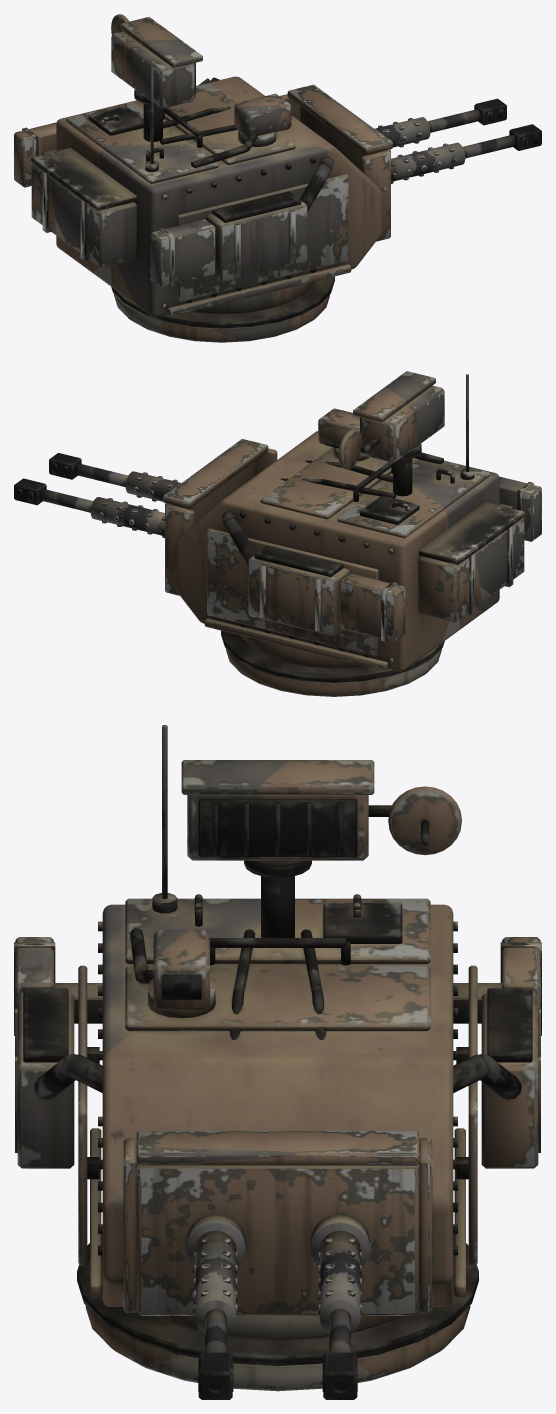
Rendered from turret_grach_evo_rock.glb.
The picture shows the model from 3 angles, top to bottom: view 1: azimuth 30°, elevation 25°; view 2: azimuth 150°, elevation 25°; view 3: azimuth 270°, elevation 25°; orthographic projection. The views are drawn at different scales.
Visible parts, largest first — view 1: turret_light_evo, guns, pods; view 2: turret_light_evo, guns, pods; view 3: turret_light_evo, guns, pods.
Boxes of the visible parts, <box> form: turret_light_evo: <box>31,14,381,342</box>; guns: <box>280,84,541,241</box>; pods: <box>14,122,215,287</box>; turret_light_evo: <box>174,371,524,696</box>; guns: <box>14,439,277,595</box>; pods: <box>340,476,541,641</box>; turret_light_evo: <box>15,725,540,1391</box>; guns: <box>123,1131,432,1399</box>; pods: <box>14,937,541,1035</box>.
Size of the model in its own units: 1.86 by 1.09 by 1.05.
Materials: 3 (3 with a texture image).
